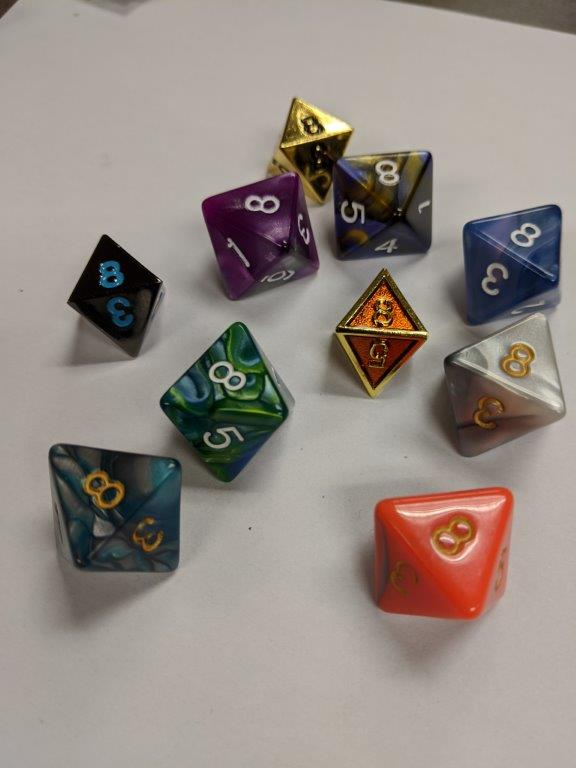d8-8: (163, 313, 294, 486), (446, 313, 568, 463), (373, 486, 512, 614), (47, 448, 184, 573), (205, 174, 321, 304), (68, 233, 165, 359), (333, 268, 426, 395), (465, 203, 563, 322), (332, 149, 432, 258), (269, 95, 351, 205)
